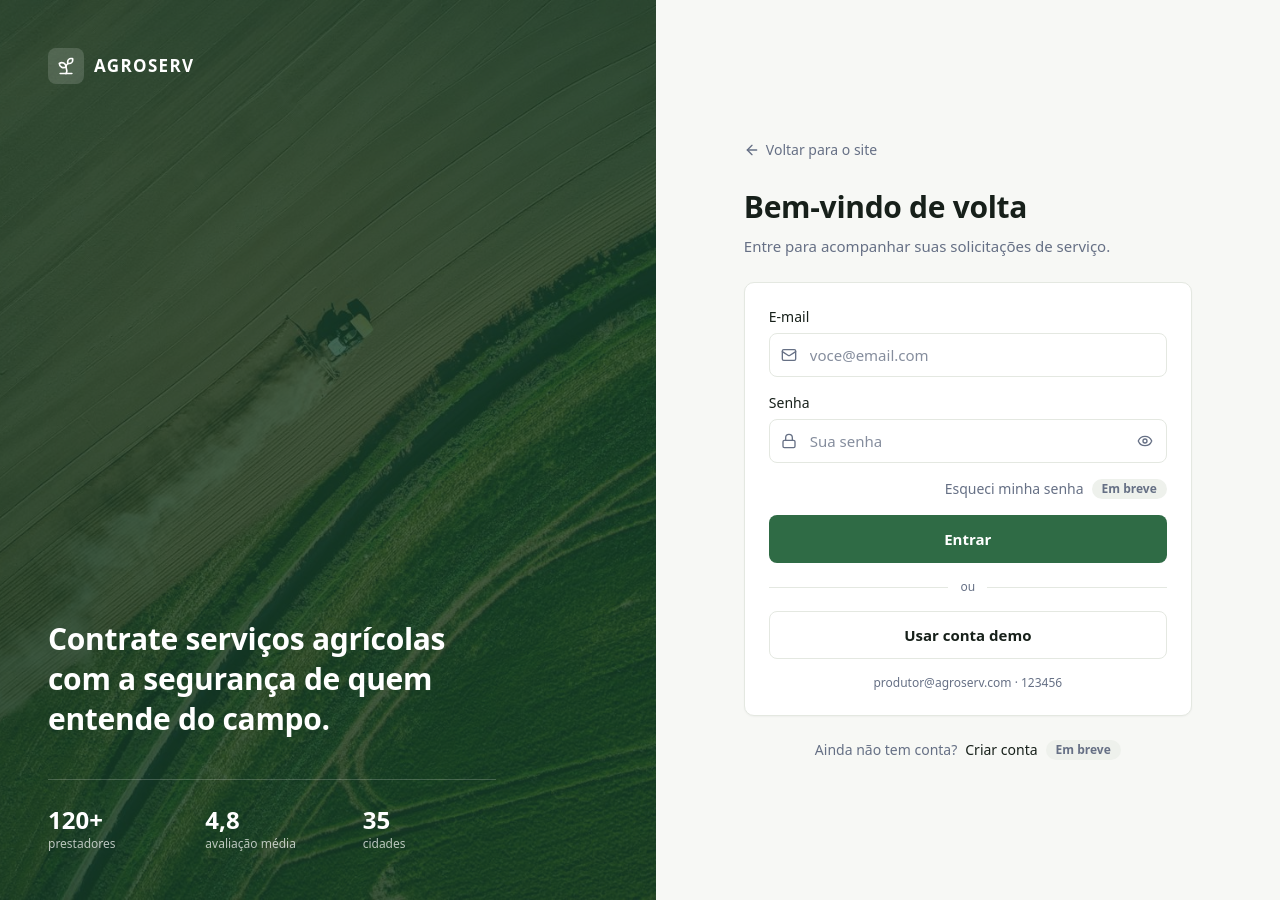
Test: LoginPage › logs in with the demo account and opens the dashboard
The image size is (1280, 900).
Click the button "Usar conta demo" at (968, 635), box [769,611,1167,659]
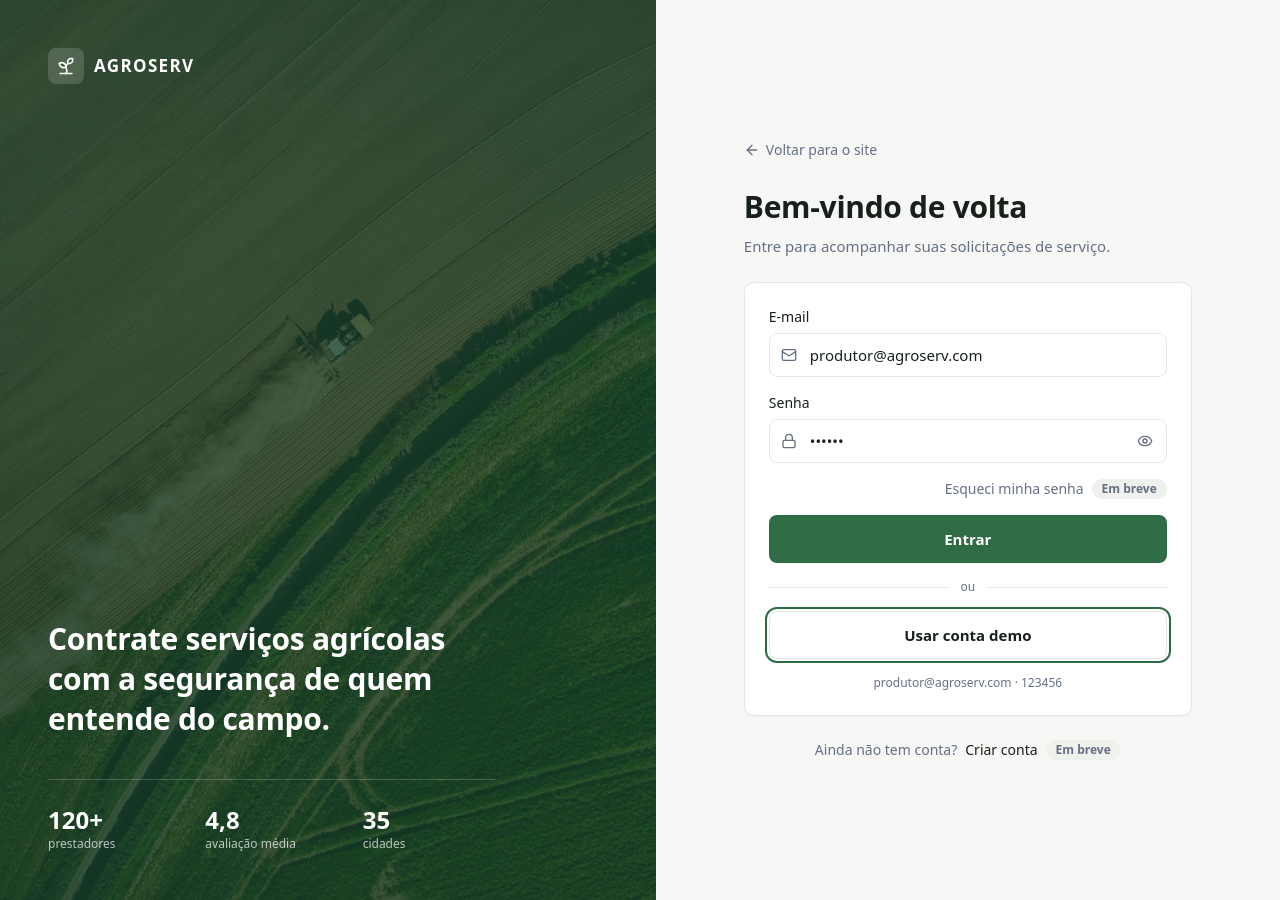
Expected: the field labelled "E-mail" holds "produtor@agroserv.com", [769,333,1167,377]
Click the button "Entrar" at (968, 539), box [769,515,1167,563]
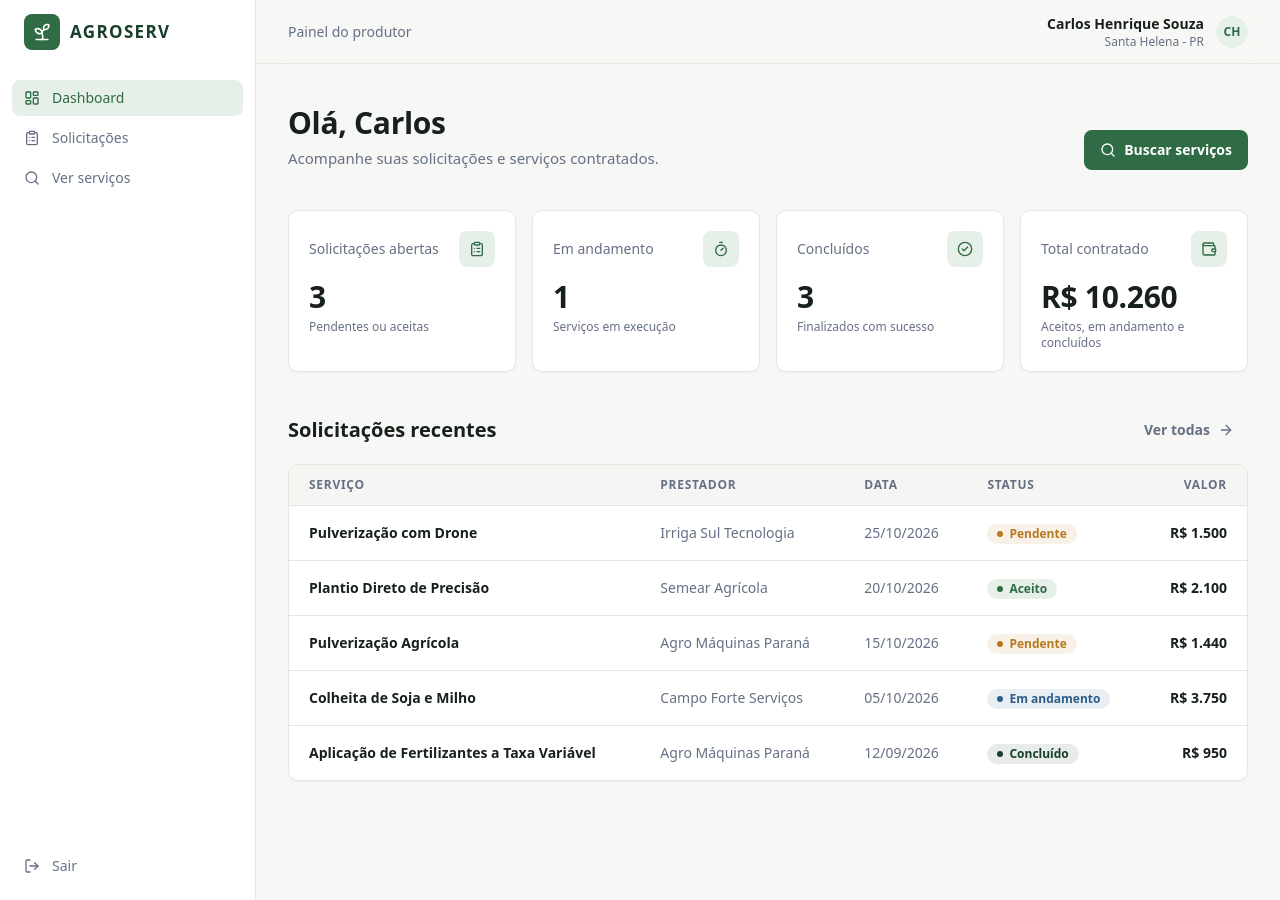
Expected: the heading "Olá, Carlos" is shown, [288,102,446,143]
